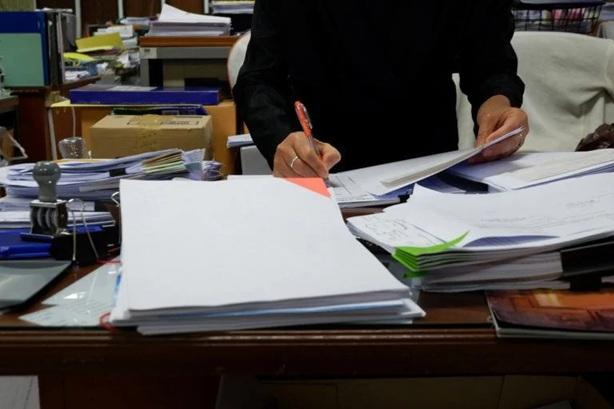plastic: (119, 167, 427, 336)
